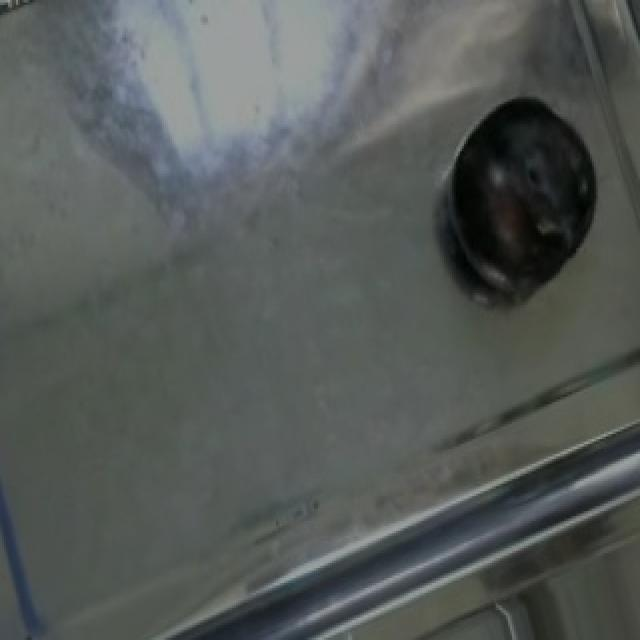Fruit: (434, 77, 616, 300)
